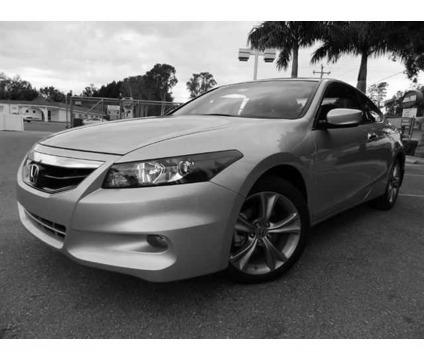car: (14, 79, 410, 289)
